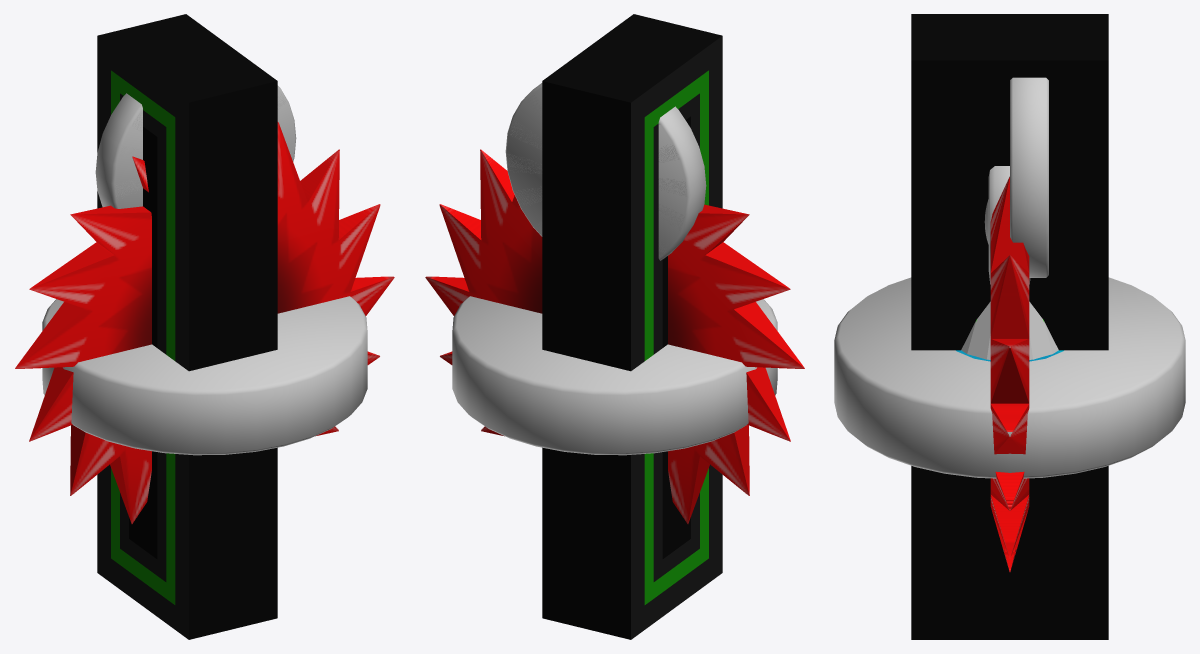
The model's file is Platform_v4.FBX.
The picture shows the model from 3 angles, left to right: view 1: azimuth 30°, elevation 25°; view 2: azimuth 150°, elevation 25°; view 3: azimuth 270°, elevation 25°; orthographic projection. The views are drawn at different scales.
Visible parts, largest first — view 1: saw_base, saw_blade, platform, Coin; view 2: saw_base, platform, saw_blade, Coin, Coin_Tibi; view 3: saw_base, platform, saw_blade, Coin, spike, CheckPoint_Pin.
Boxes of the visible parts, x1,y1,x2,y2 form: saw_base: [97, 14, 277, 639]; saw_blade: [15, 122, 394, 523]; platform: [42, 296, 367, 455]; Coin: [95, 85, 296, 208]; saw_base: [542, 14, 722, 639]; platform: [452, 296, 777, 455]; saw_blade: [425, 149, 804, 523]; Coin: [505, 83, 706, 260]; Coin_Tibi: [507, 95, 686, 256]; saw_base: [911, 14, 1108, 639]; platform: [834, 277, 1185, 478]; saw_blade: [990, 176, 1029, 571]; Coin: [1010, 77, 1048, 277]; spike: [961, 301, 1058, 359]; CheckPoint_Pin: [984, 166, 1030, 284].
Size of what is drawn, in the model's own units: 243 by 180 by 327.
